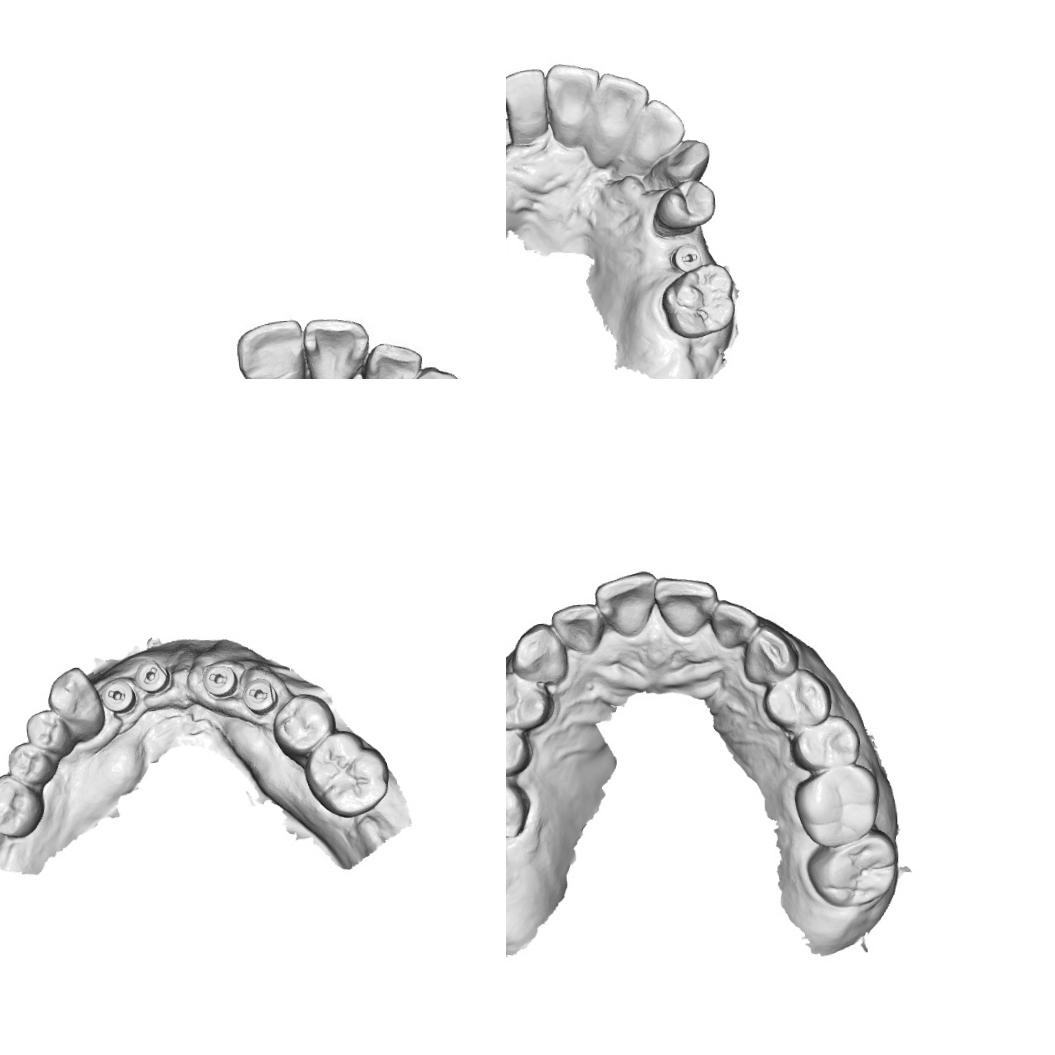canine: (43, 662, 104, 734), (506, 620, 570, 686), (730, 622, 797, 684), (640, 137, 711, 190), (390, 362, 470, 379)
implant_minus: (198, 658, 238, 698), (99, 673, 137, 714), (242, 676, 276, 716), (133, 658, 171, 692), (668, 241, 702, 273)
incisor: (589, 567, 660, 641), (543, 60, 602, 148), (235, 317, 311, 379), (653, 574, 720, 640), (303, 316, 372, 379), (506, 66, 550, 146), (547, 600, 604, 654), (594, 70, 650, 122), (707, 596, 760, 650), (632, 96, 686, 148), (359, 339, 425, 379)
molar: (802, 824, 900, 912), (791, 760, 882, 850), (302, 725, 389, 819), (658, 260, 736, 340), (0, 771, 45, 841), (506, 766, 530, 851)
premolar: (268, 688, 336, 758), (784, 711, 864, 770), (759, 666, 835, 728), (648, 176, 716, 238), (506, 669, 551, 733), (24, 708, 74, 754), (3, 740, 52, 785), (506, 716, 532, 779)
